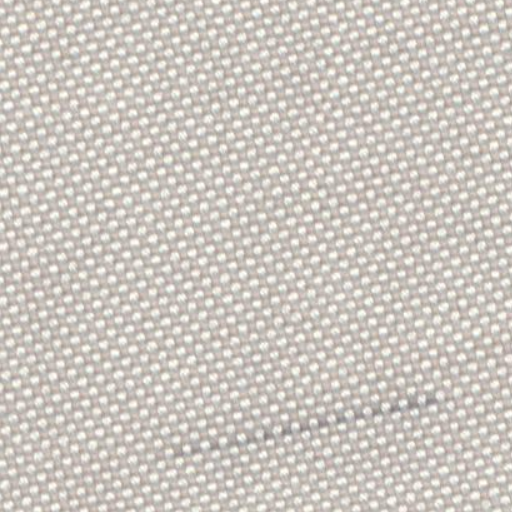WuZi: (164, 391, 436, 456)
